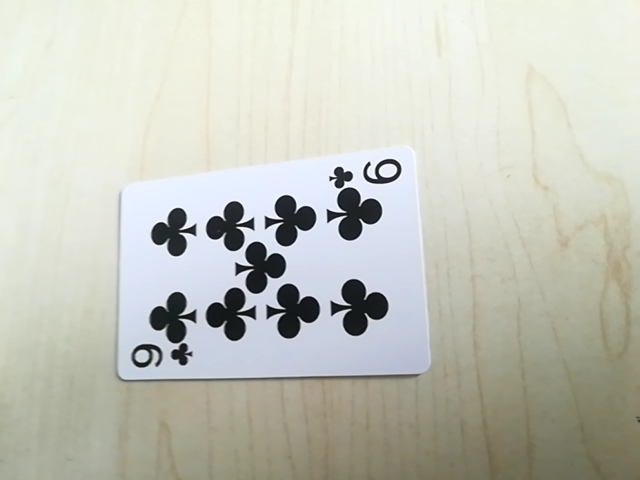mh 9: (326, 154, 407, 189), (125, 340, 194, 375)
